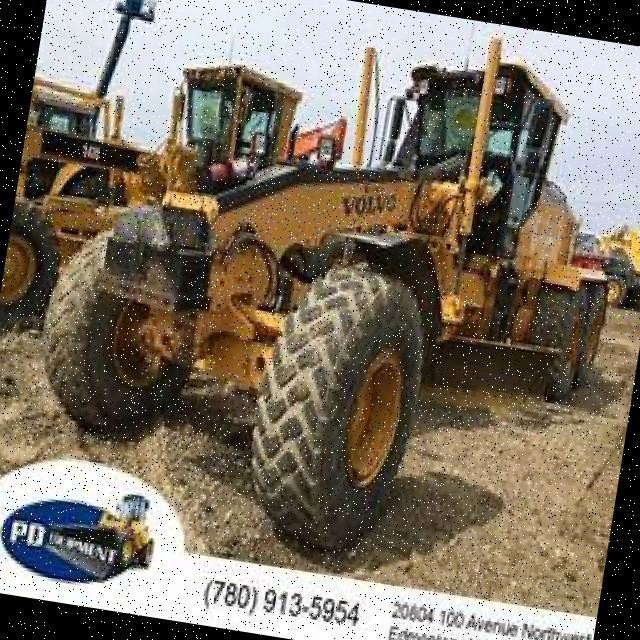Grader: (19, 0, 640, 581)
